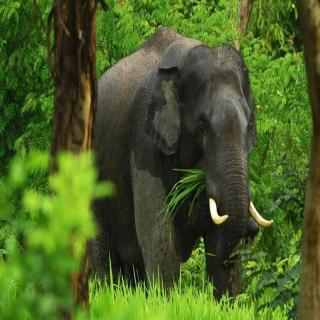Elephant: (80, 24, 274, 303)
